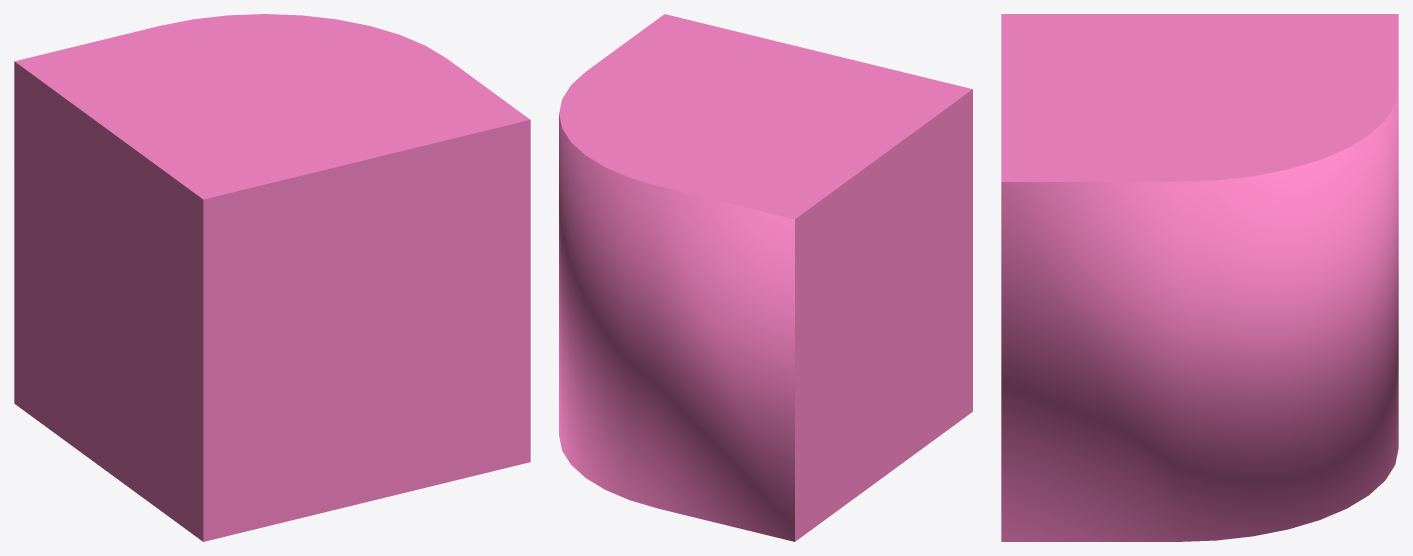
File: SM_Cube_Smoothing.fbx
3 views of the same model, side by side, from view 1: azimuth 30°, elevation 25°; view 2: azimuth 150°, elevation 25°; view 3: azimuth 270°, elevation 25° (orthographic). The views are drawn at different scales.
Parts seen in each view (by area): view 1: SM_Cube_Smooth; view 2: SM_Cube_Smooth; view 3: SM_Cube_Smooth.
Part boxes in pixels (x1,y1,x2,y2): SM_Cube_Smooth: [14, 14, 530, 541]; SM_Cube_Smooth: [559, 14, 972, 541]; SM_Cube_Smooth: [1001, 14, 1398, 541].
Bounding box in the file's own units: 200 × 200 × 200.
